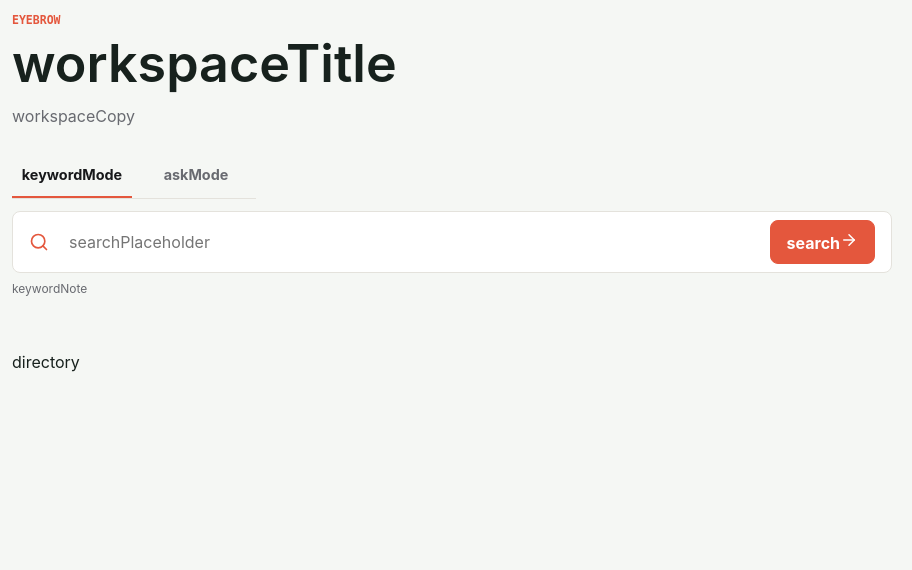
Test: public discovery modes › maps a request-time MODEL_UNAVAILABLE response to its independent state
The width and height of the screenshot is (912, 570).
Click the tab "askMode" at (196, 176), box x1=136 y1=154 x2=256 y2=198
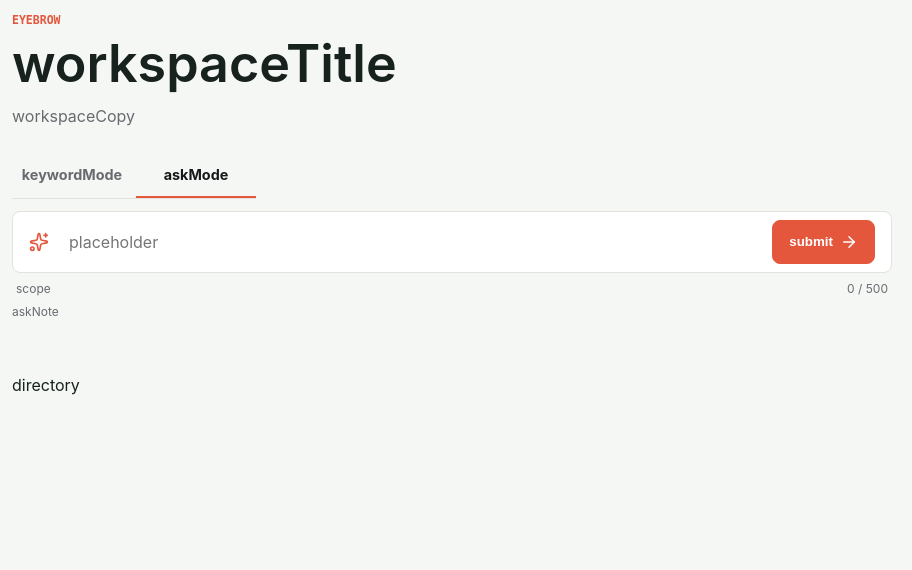
Type "What changed?" into the field named "inputLabel" at (413, 242), box x1=61 y1=220 x2=764 y2=264
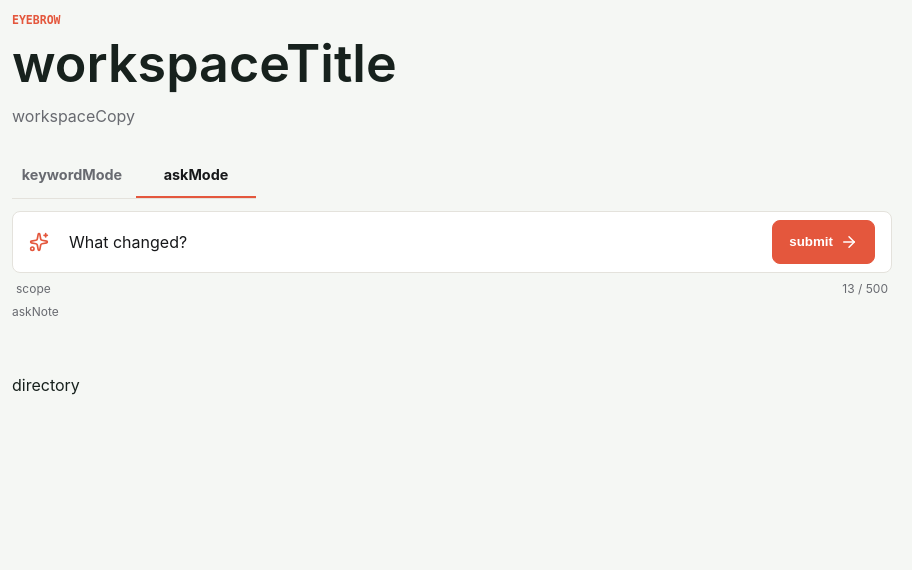
Submit the form named "regionLabel", box x1=12 y1=211 x2=892 y2=273
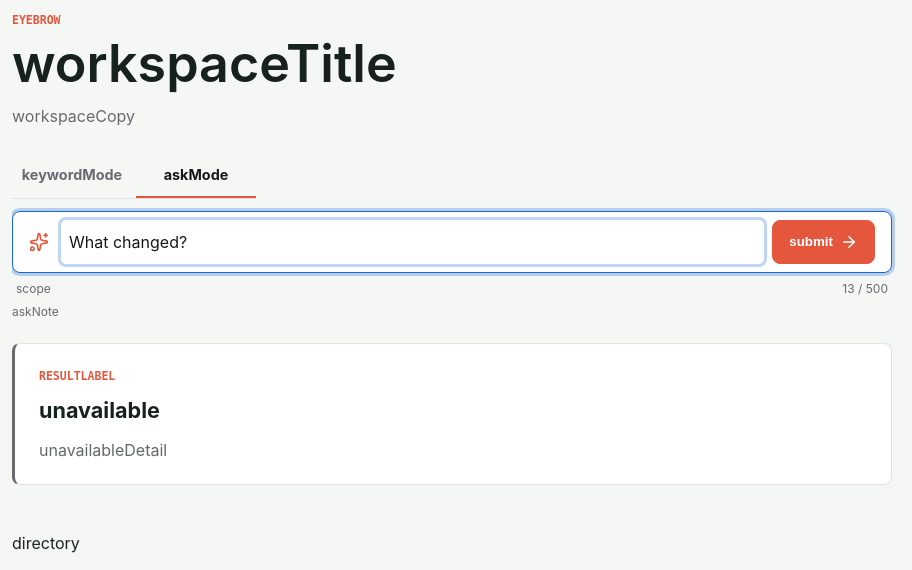
Result: the heading "unavailable" is shown at x1=39 y1=397 x2=160 y2=423
